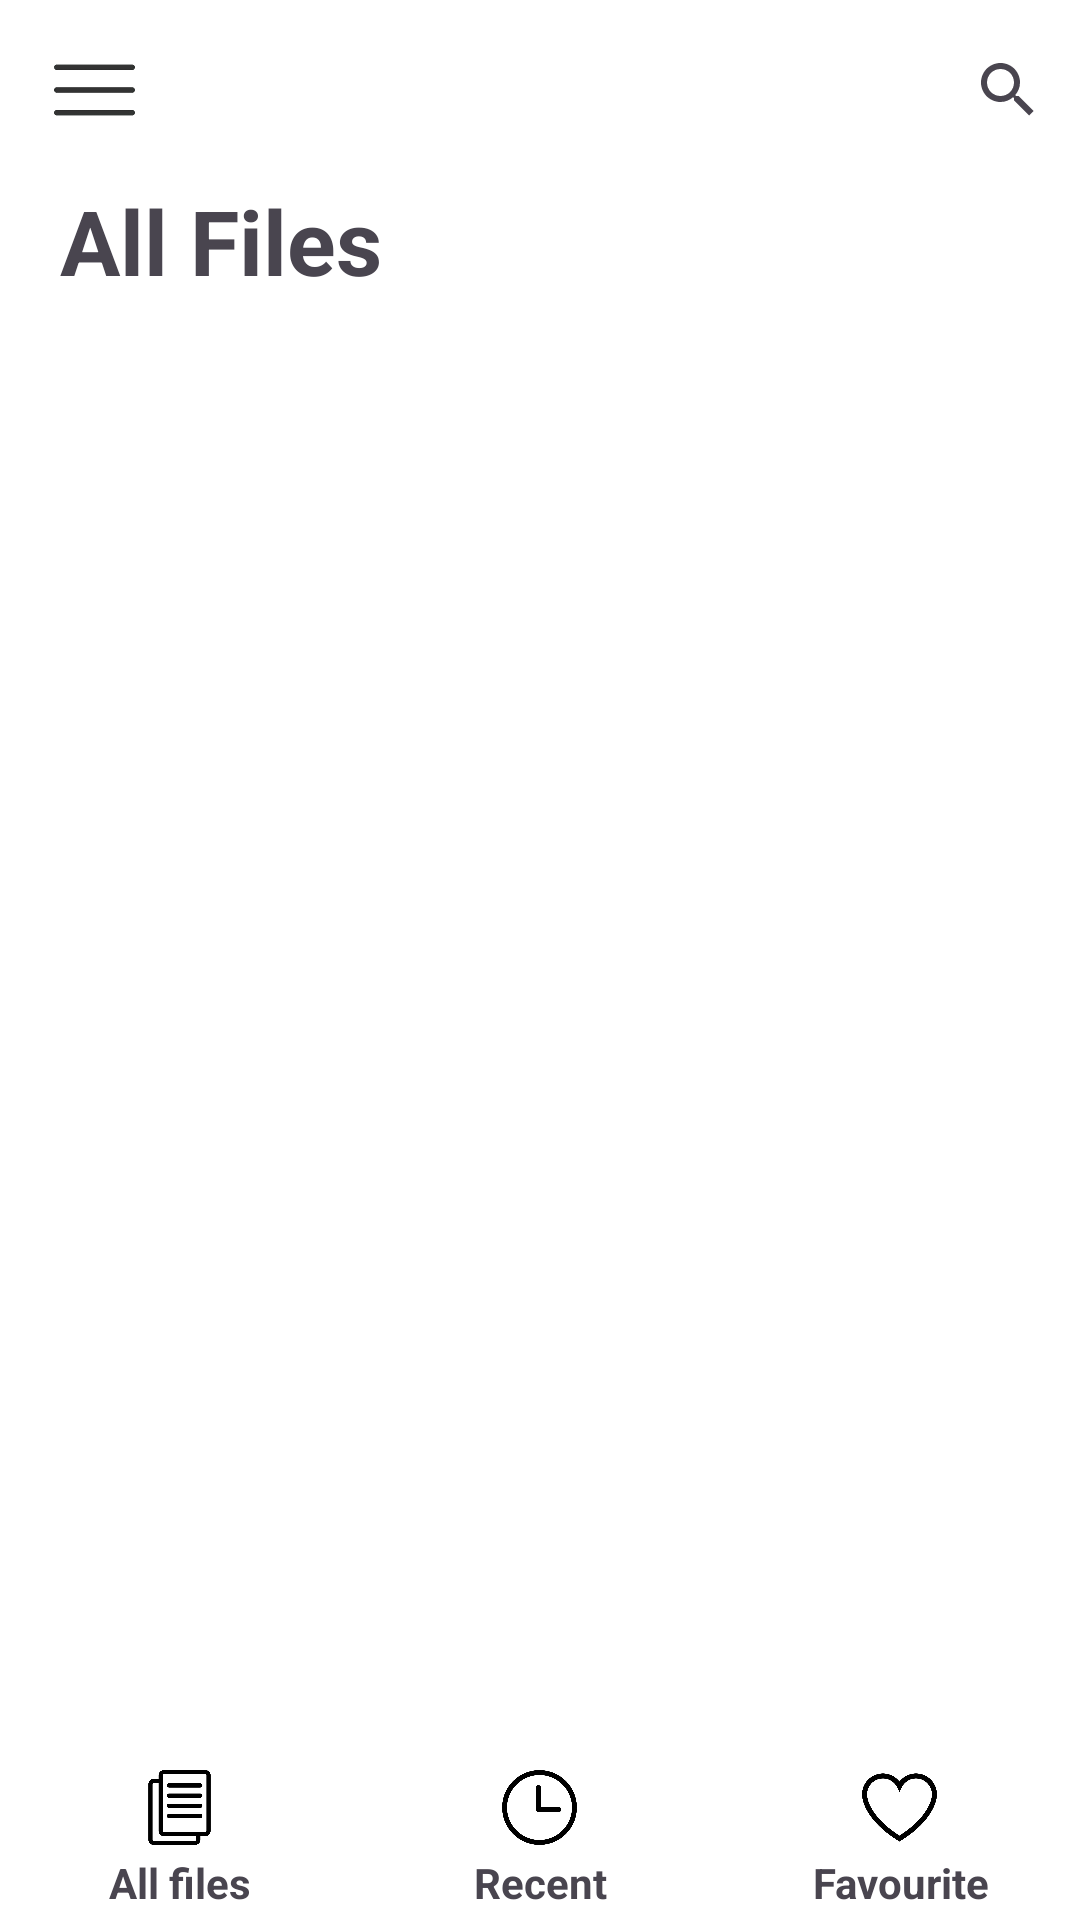

Where icons sit on this 1080 x 1920 app screen, as (x1, y1, x2, y2):
clock: (502, 1770, 577, 1845)
hamburger menu: (54, 64, 135, 116)
heart: (862, 1773, 937, 1842)
